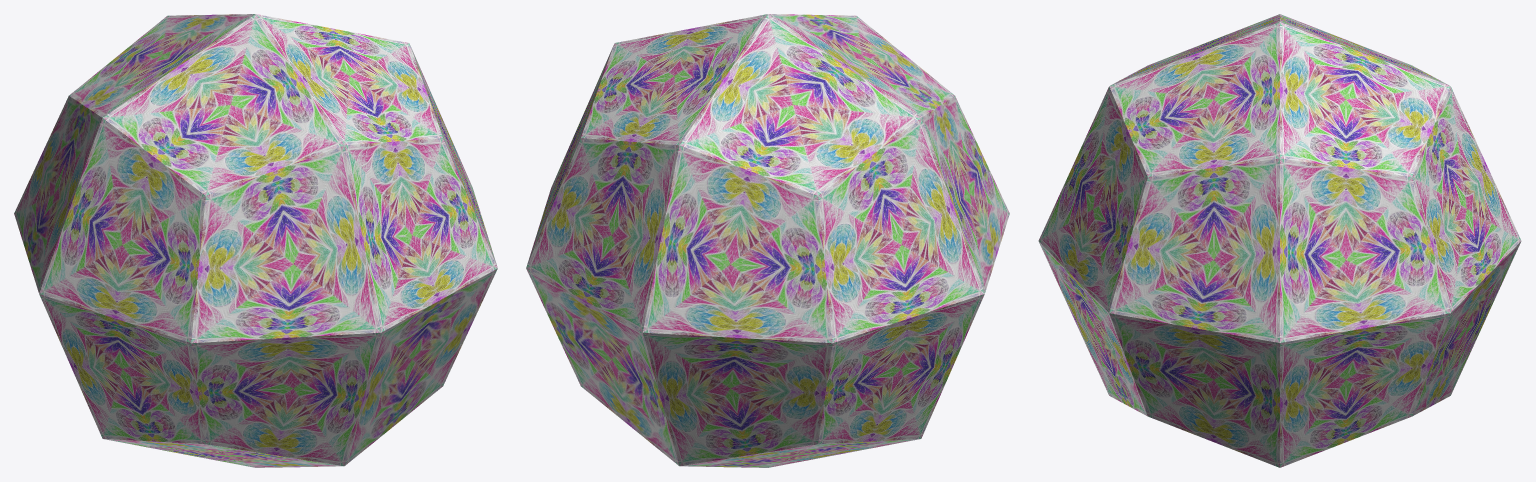
The model's file is DeltoidalIcositetrahedron7.obj.
3 renders of one model, left to right at view 1: azimuth 30°, elevation 25°; view 2: azimuth 150°, elevation 25°; view 3: azimuth 270°, elevation 25°, orthographic. The views are drawn at different scales.
Size of the model in its own units: 2.83 by 2.83 by 2.83.
1 material, 1 textured.
